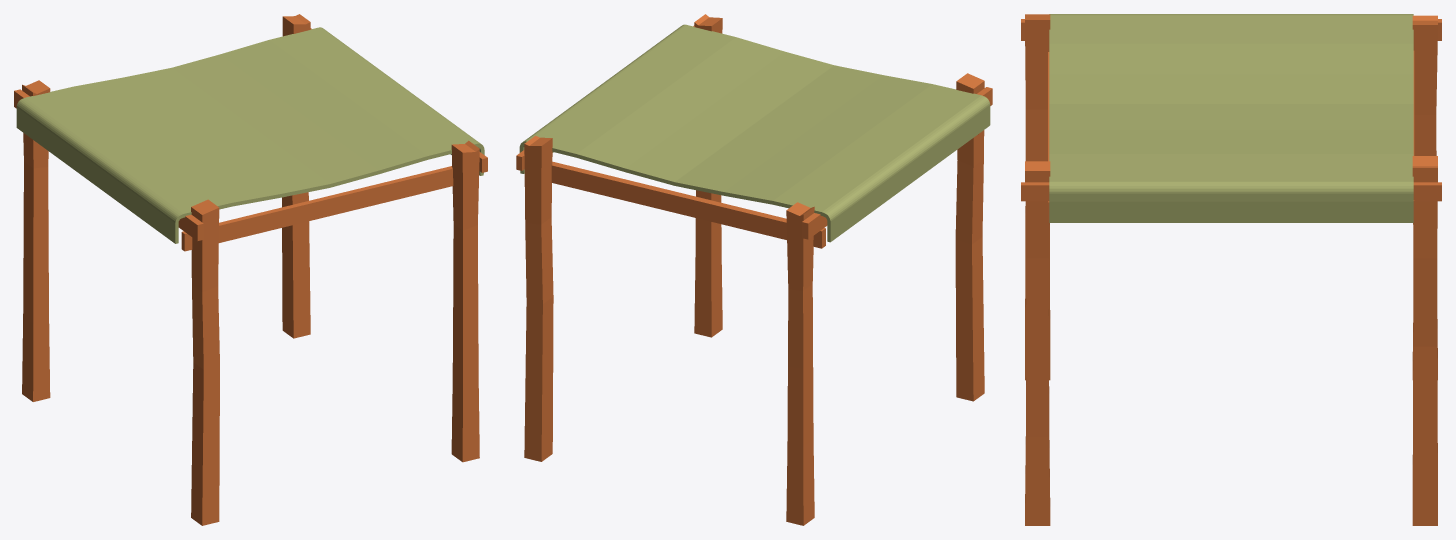
The model's file is Wood Base 3.glb.
The picture shows the model from 3 angles, left to right: view 1: azimuth 30°, elevation 25°; view 2: azimuth 150°, elevation 25°; view 3: azimuth 270°, elevation 25°; orthographic projection. The views are drawn at different scales.
Parts seen in each view (by area): view 1: WoodBase4; view 2: WoodBase4; view 3: WoodBase4.
Boxes of the visible parts, x1=… form: WoodBase4: x1=14, y1=14, x2=487, y2=525; WoodBase4: x1=516, y1=14, x2=992, y2=525; WoodBase4: x1=1021, y1=14, x2=1441, y2=525.
Bounding box in the file's own units: 2.11 × 2.05 × 2.17.
